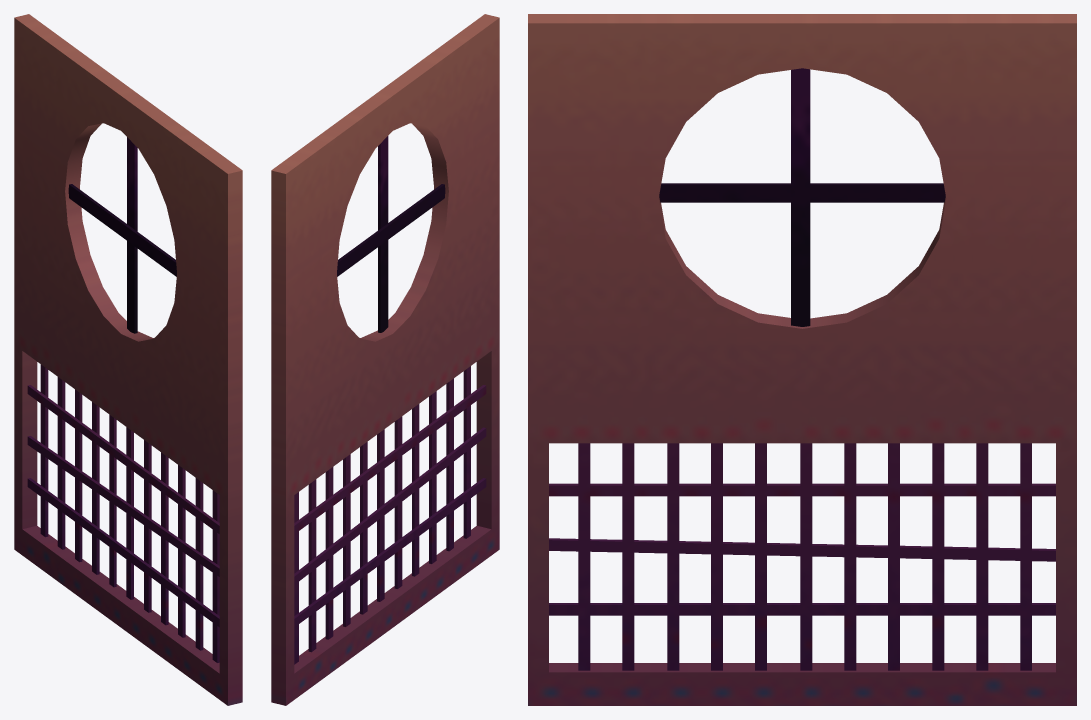
The model's file is Wall.fbx.
The picture shows the model from 3 angles, left to right: view 1: azimuth 30°, elevation 25°; view 2: azimuth 150°, elevation 25°; view 3: azimuth 270°, elevation 25°; orthographic projection. The views are drawn at different scales.
Parts seen in each view (by area): view 1: pCube20; view 2: pCube20; view 3: pCube20.
Boxes of the visible parts, x1,y1,x2,y2 form: pCube20: [14, 14, 242, 705]; pCube20: [271, 14, 499, 705]; pCube20: [528, 14, 1076, 705].
Bounding box in the file's own units: 1 × 34.32 × 25.
1 material, 1 textured.
